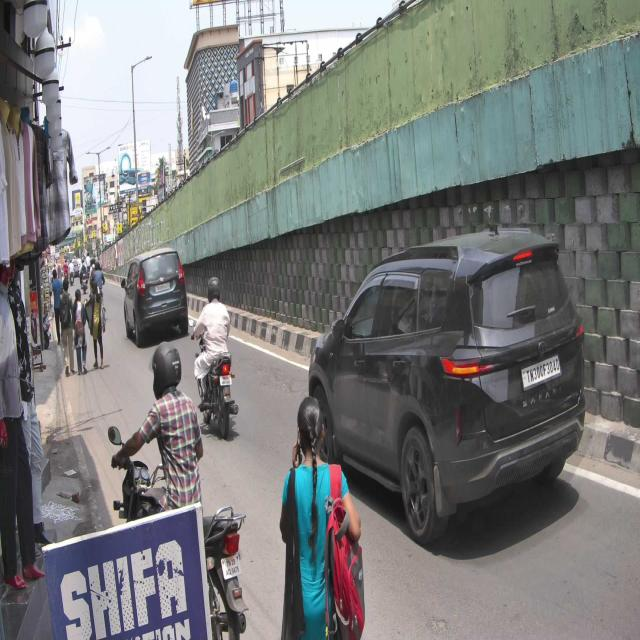single_rider: (189, 275, 241, 439)
